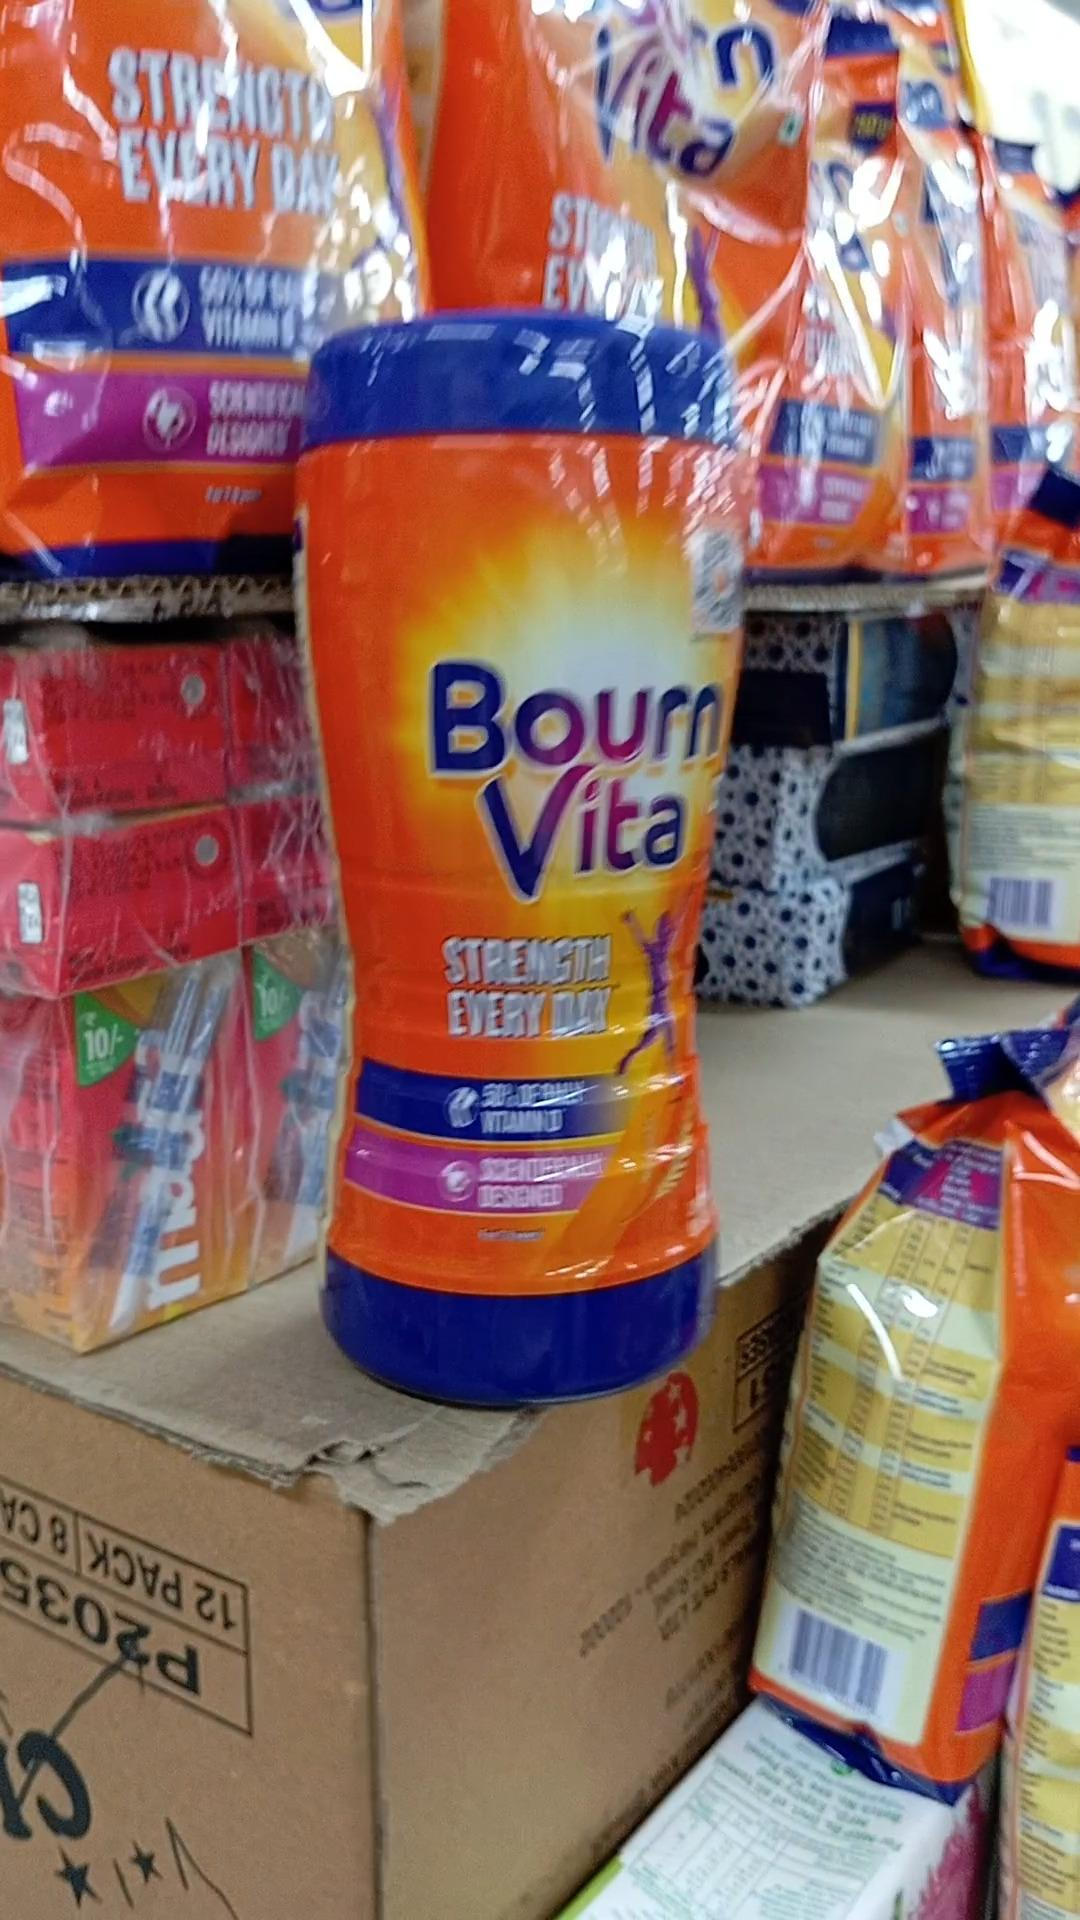COMPLAN_CHOCOLATE_200_GMS_JAR: (305, 305, 725, 1390)
